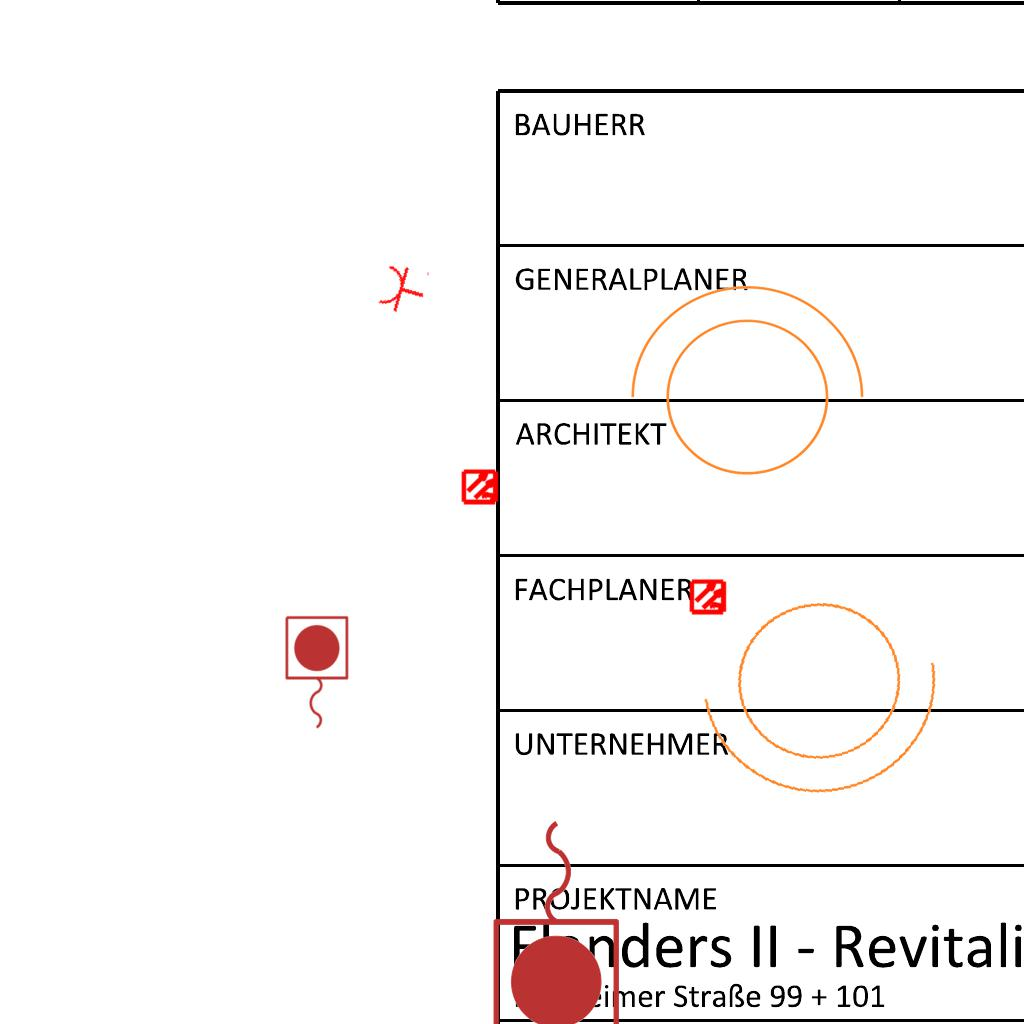OT_Multisensormelder_(Kombination_RMO_WMD): (453, 459, 509, 515), (681, 569, 737, 625)
Scheinwerfer_fuer_Alarmbeleuchtung: (679, 557, 975, 822), (609, 275, 873, 500)
Schukosteckdose_einfach: (375, 259, 432, 319)
Zugtaster: (486, 810, 630, 1024), (280, 612, 352, 734)
